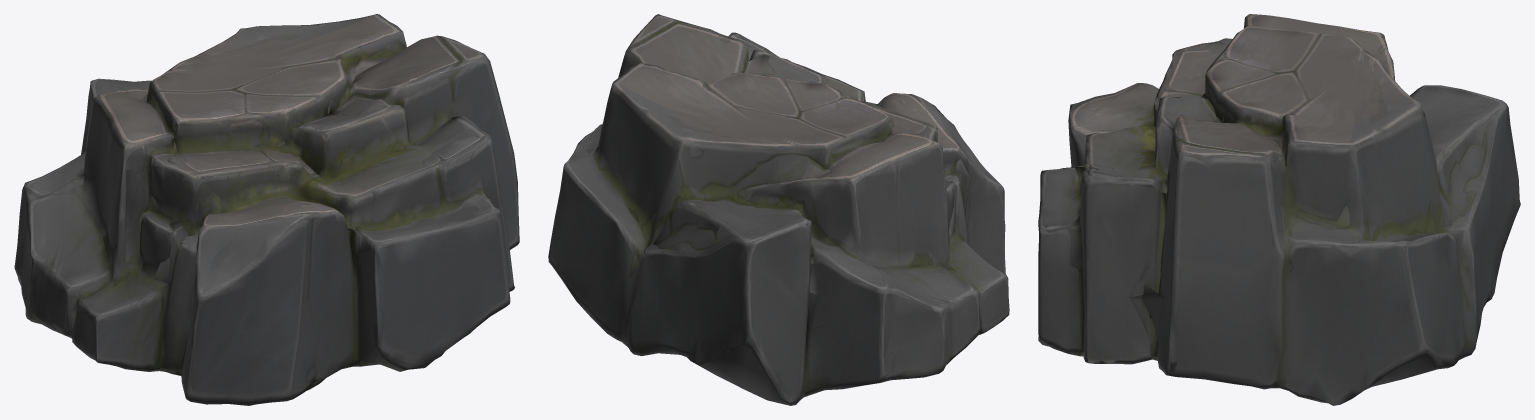
The model's file is rock.glb.
3 renders of one model, left to right at view 1: azimuth 30°, elevation 25°; view 2: azimuth 150°, elevation 25°; view 3: azimuth 270°, elevation 25°, orthographic. The views are drawn at different scales.
Visible parts, largest first — view 1: ROCK; view 2: ROCK; view 3: ROCK.
Part boxes in pixels (bbox=[...]): ROCK: bbox=[14, 14, 519, 405]; ROCK: bbox=[548, 14, 1009, 405]; ROCK: bbox=[1038, 14, 1520, 405].
Bounding box in the file's own units: 1.95 × 1.17 × 1.83.
1 material, 1 textured.
